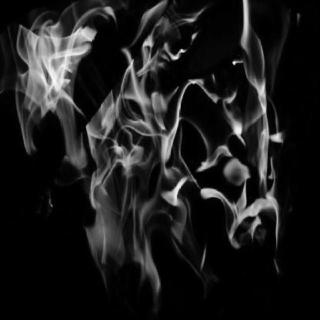Fire: (82, 4, 215, 274), (218, 2, 294, 258), (5, 8, 91, 152)
